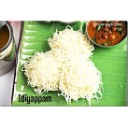idiyappam: (63, 58, 102, 102), (22, 52, 63, 89), (50, 29, 89, 56)
